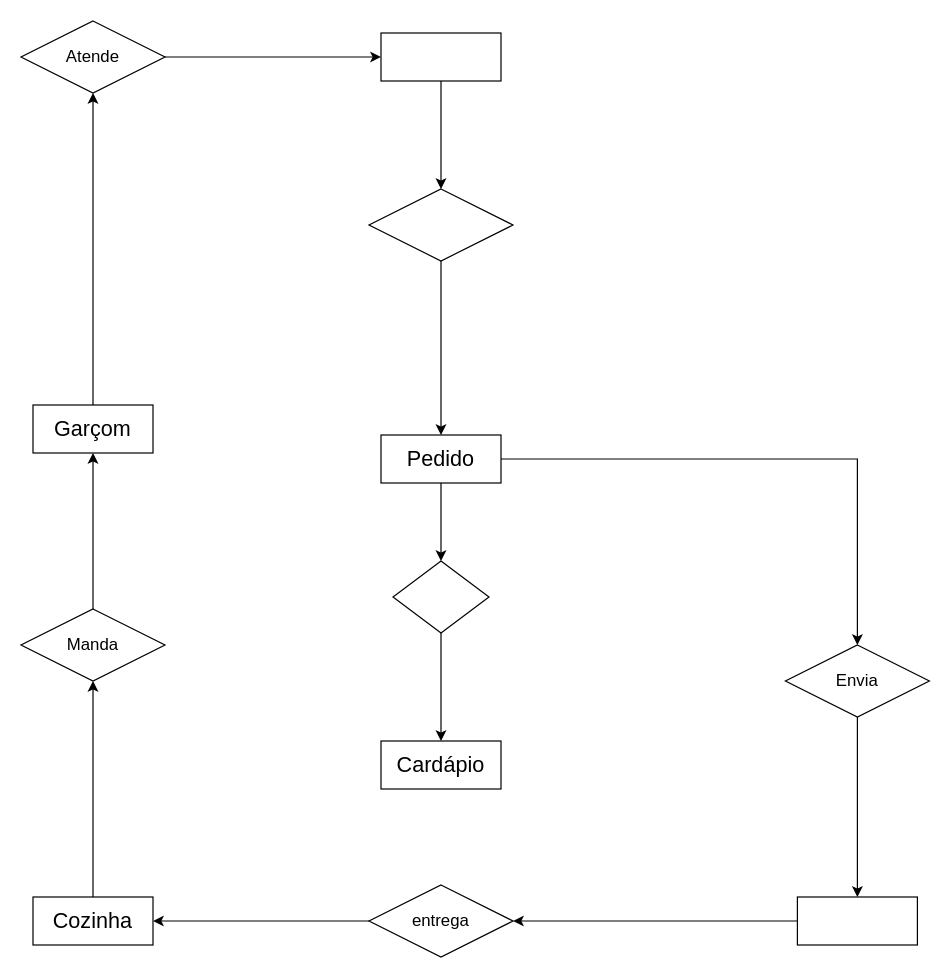
This 950x978 diagram has some shape labels left out. Each missing label, with the centre of its shape:
"Atendente" goes at point 856,920.
"Cliente" goes at point 440,56.
"Contém" goes at point 440,596.
"Gera" goes at point 440,224.
